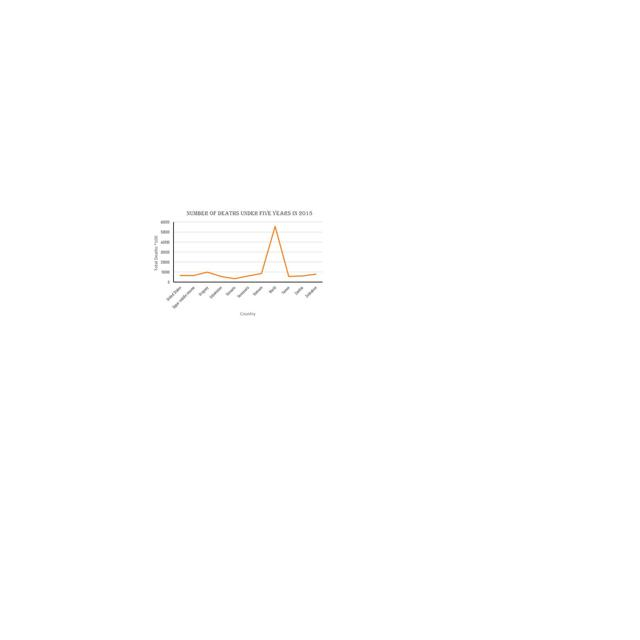Graph: (148, 206, 327, 322)
